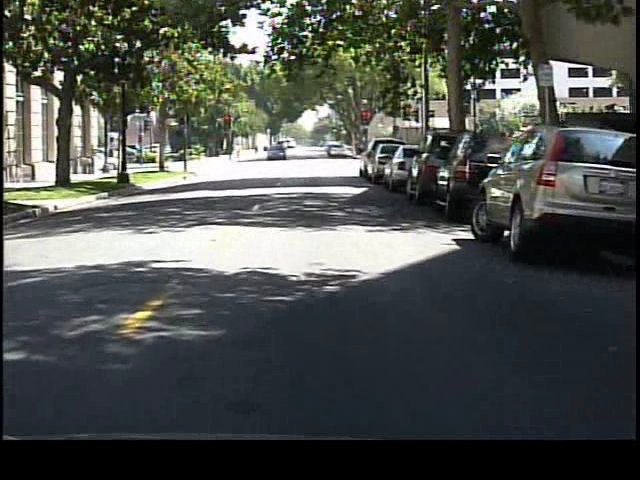person: (232, 140, 245, 166)
